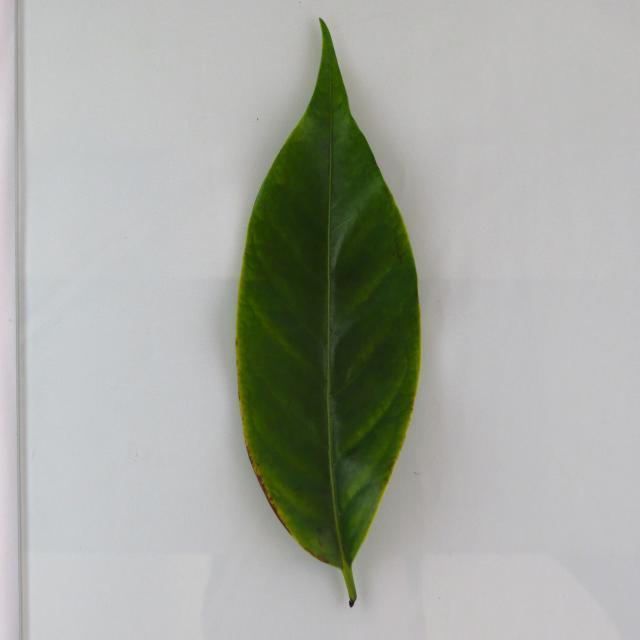DeficienciaNutricional-Manganeso: (236, 20, 420, 607)
